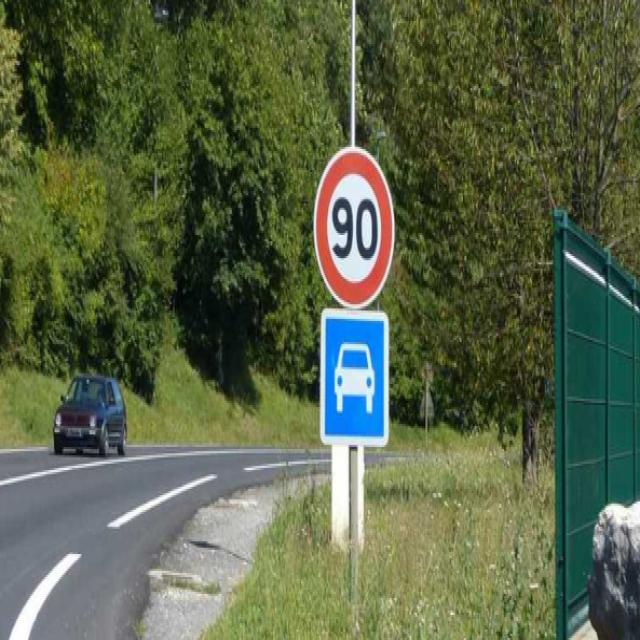speed_90: (314, 144, 397, 312)
